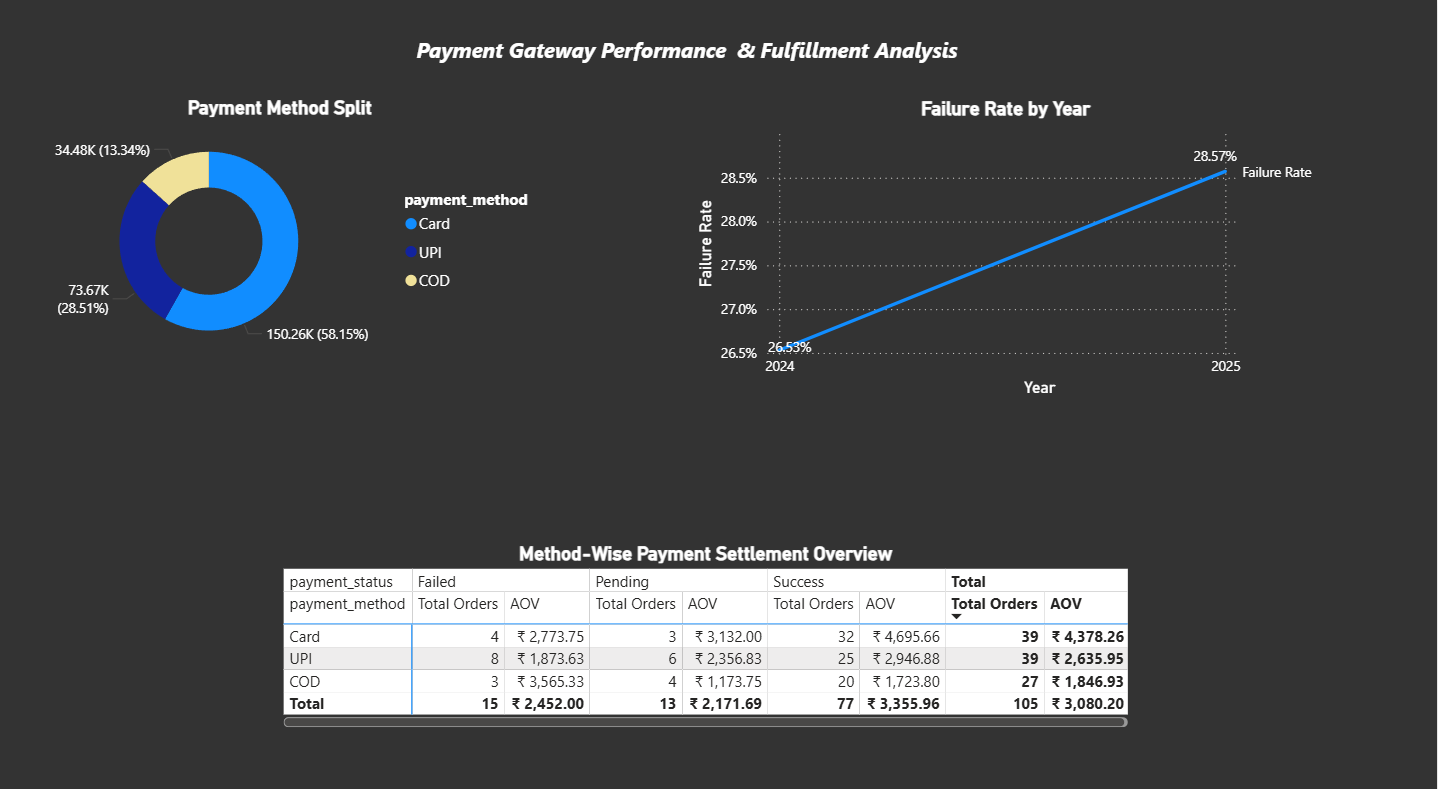

The dashboard page shown, as its layout file describes it:
{"tool":"powerbi","page":{"name":"Payment Analysis","canvas":[1280,720],"ordinal":3},"visuals":[{"type":"donutChart","title":"Payment Method Split","fields":{"Category":["payments.payment_method"],"Y":["_Calculation.Net Revenue"]},"box":[36,102.3,483.7,240.7],"z":0},{"type":"textbox","box":[367.8,28.8,524.2,48],"z":1000},{"type":"lineChart","fields":{"Category":["orders.order_date.Variation.Date Hierarchy.Year","orders.order_date.Variation.Date Hierarchy.Quarter","orders.order_date.Variation.Date Hierarchy.Month","orders.order_date.Variation.Date Hierarchy.Day"],"Y":["_Calculation.Failure Rate"]},"box":[616.1,87.8,559.9,271.7],"z":2000},{"type":"pivotTable","title":"Method-Wise Payment Settlement Overview","fields":{"Rows":["payments.payment_method"],"Columns":["payments.payment_status"],"Values":["_Calculation.Total Orders","_Calculation.AOV"]},"box":[249.7,483,760.2,170.2],"z":3000}]}

Visuals, with their boxes in screenshot pixels (x1, y1, x2, y2), scaled from the page's 1280x720 canvas onto the 1438x789 screenshot:
"Payment Method Split" donutChart: [x1=40, y1=112, x2=584, y2=376]
textbox: [x1=413, y1=32, x2=1002, y2=84]
lineChart - orders.order_date.Variation.Date Hierarchy.Year x orders.order_date.Variation.Date Hierarchy.Quarter: [x1=692, y1=96, x2=1321, y2=394]
"Method-Wise Payment Settlement Overview" pivotTable: [x1=281, y1=529, x2=1135, y2=716]
